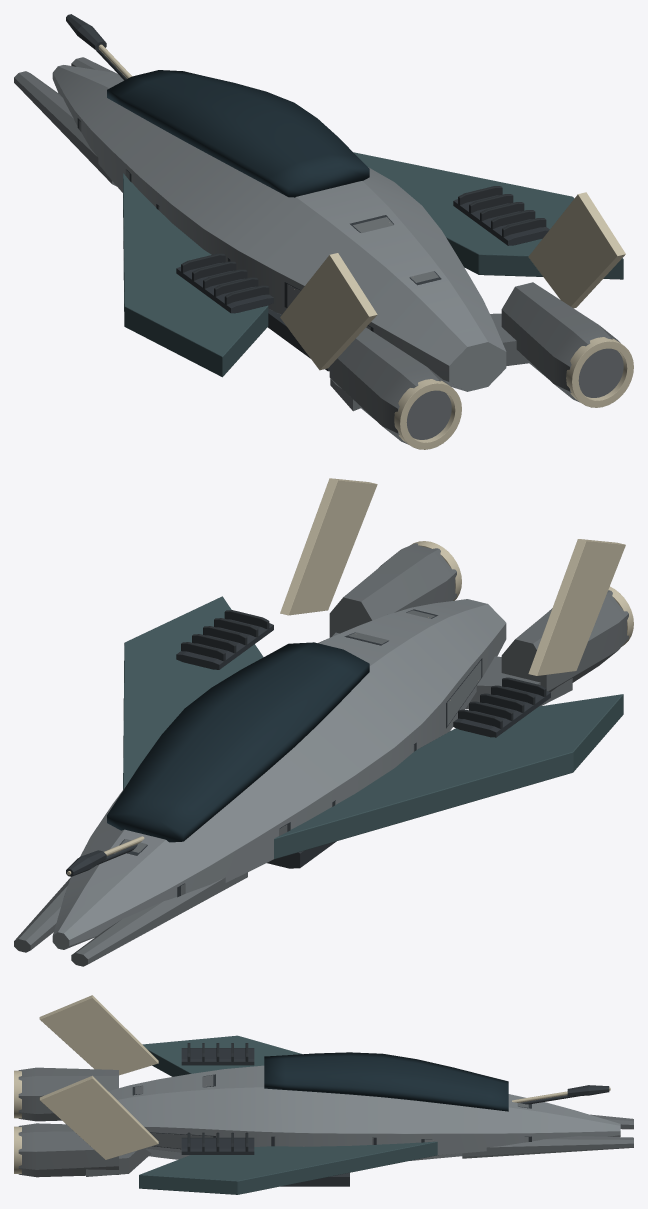
The model's file is shuttle_swift.glb.
3 renders of one model, top to bottom at view 1: azimuth 30°, elevation 25°; view 2: azimuth 150°, elevation 25°; view 3: azimuth 270°, elevation 25°, orthographic. The views are drawn at different scales.
Parts seen in each view (by area): view 1: v4_council_hull, v4_council_paint, v4_council_secondary, v4_council_glass, v4_council_trim, v4_council_ceramic, v4_council_dark; view 2: v4_council_hull, v4_council_paint, v4_council_glass, v4_council_secondary, v4_council_trim, v4_council_ceramic, v4_council_dark; view 3: v4_council_hull, v4_council_paint, v4_council_trim, v4_council_secondary, v4_council_glass, v4_council_dark, v4_council_ceramic.
Part boxes in pixels (x1=…): v4_council_hull: x1=52, y1=65, x2=506, y2=391; v4_council_paint: x1=123, y1=152, x2=623, y2=377; v4_council_secondary: x1=14, y1=50, x2=623, y2=444; v4_council_glass: x1=107, y1=70, x2=369, y2=197; v4_council_trim: x1=98, y1=44, x2=633, y2=449; v4_council_ceramic: x1=181, y1=186, x2=546, y2=304; v4_council_dark: x1=66, y1=14, x2=549, y2=371; v4_council_hull: x1=52, y1=599, x2=506, y2=949; v4_council_paint: x1=123, y1=596, x2=623, y2=859; v4_council_glass: x1=107, y1=642, x2=369, y2=842; v4_council_secondary: x1=14, y1=543, x2=628, y2=966; v4_council_trim: x1=67, y1=478, x2=633, y2=875; v4_council_ceramic: x1=181, y1=610, x2=546, y2=728; v4_council_dark: x1=66, y1=609, x2=550, y2=897; v4_council_hull: x1=108, y1=1065, x2=620, y2=1160; v4_council_paint: x1=139, y1=1035, x2=438, y2=1194; v4_council_trim: x1=14, y1=995, x2=610, y2=1173; v4_council_secondary: x1=18, y1=1067, x2=633, y2=1177; v4_council_glass: x1=264, y1=1052, x2=508, y2=1111; v4_council_dark: x1=132, y1=1048, x2=609, y2=1186; v4_council_ceramic: x1=187, y1=1043, x2=248, y2=1151.
Size of the model in its own units: 9.4 by 4.23 by 16.9.
